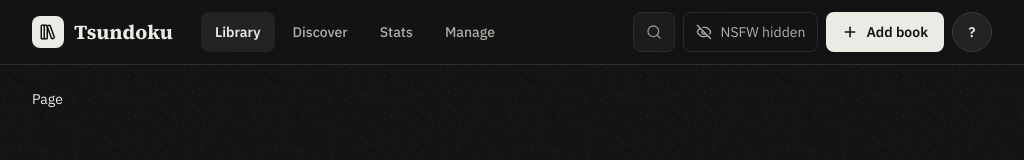
Scenario: AppShell › logs out from the account menu
Click the button named "Account menu" at (972, 32), box top-left (952, 12), bottom-right (992, 52)
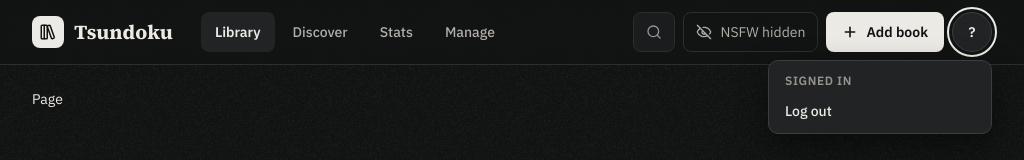
Now the menu item "Log out" is shown, box top-left (773, 93), bottom-right (987, 129)
